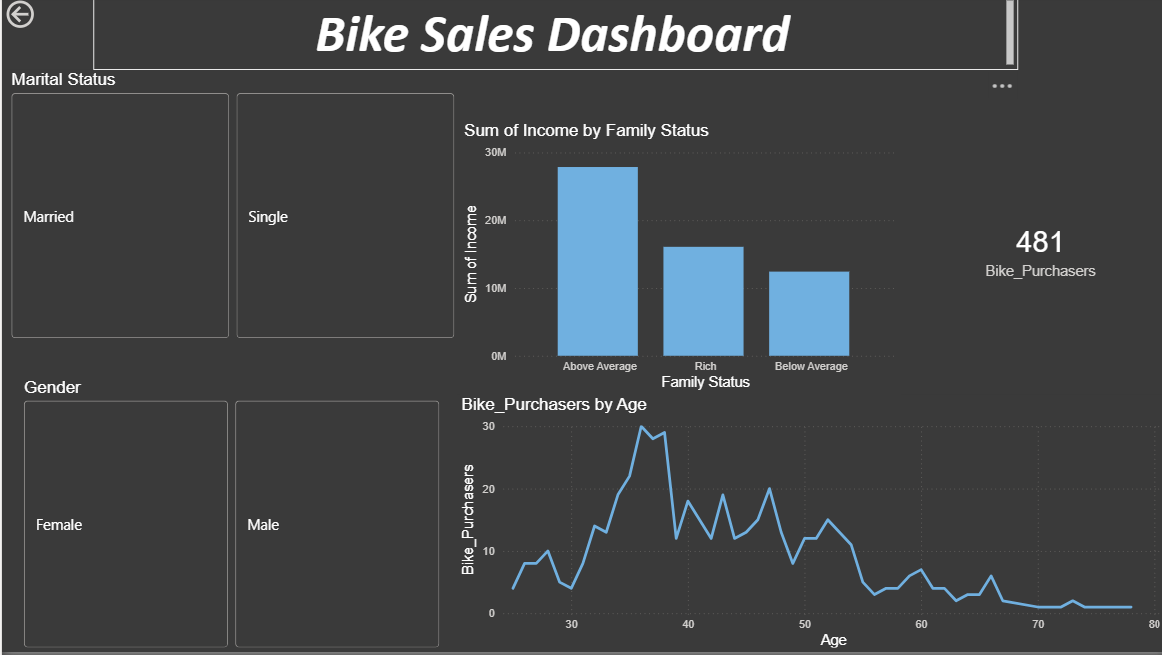

Layout of this report page (visuals, bound fields, positions):
{"tool":"powerbi","page":{"name":"Page 1","canvas":[1280,720],"ordinal":0},"visuals":[{"type":"card","fields":{"Values":["bike_buyers.Bike_Purchasers"]},"box":[1000.3,138.6,279.9,279.9],"z":0},{"type":"advancedSlicerVisual","fields":{"Values":["bike_buyers.Marital Status"]},"box":[5.5,81,496.7,300.5],"z":1000},{"type":"advancedSlicerVisual","fields":{"Values":["bike_buyers.Gender"]},"box":[19.2,418.5,467.9,301.9],"z":2000},{"type":"lineChart","fields":{"Category":["bike_buyers.Age"],"Y":["bike_buyers.Bike_Purchasers"]},"box":[499.5,437.7,780.8,282.7],"z":3000},{"type":"clusteredColumnChart","fields":{"Category":["bike_buyers.Family Status"],"Y":["Sum(bike_buyers.Income)"]},"box":[502.2,137.2,484.4,300.5],"z":4000},{"type":"textbox","box":[100.2,0,1015.4,81],"z":5000},{"type":"actionButton","box":[0,0,100,40],"z":6000}]}

Visuals, with their boxes in screenshot pixels (x1, y1, x2, y2), scaled from the page's 1280x720 canvas onto the 1162x655 screenshot:
card - bike_buyers.Bike_Purchasers: <bbox>908, 126, 1161, 381</bbox>
advancedSlicerVisual - bike_buyers.Marital Status: <bbox>5, 74, 456, 347</bbox>
advancedSlicerVisual - bike_buyers.Gender: <bbox>17, 381, 442, 654</bbox>
lineChart - bike_buyers.Age x bike_buyers.Bike_Purchasers: <bbox>453, 398, 1161, 654</bbox>
clusteredColumnChart - bike_buyers.Family Status x Sum(bike_buyers.Income): <bbox>456, 125, 896, 398</bbox>
textbox: <bbox>91, 0, 1013, 74</bbox>
actionButton: <bbox>0, 0, 91, 36</bbox>
